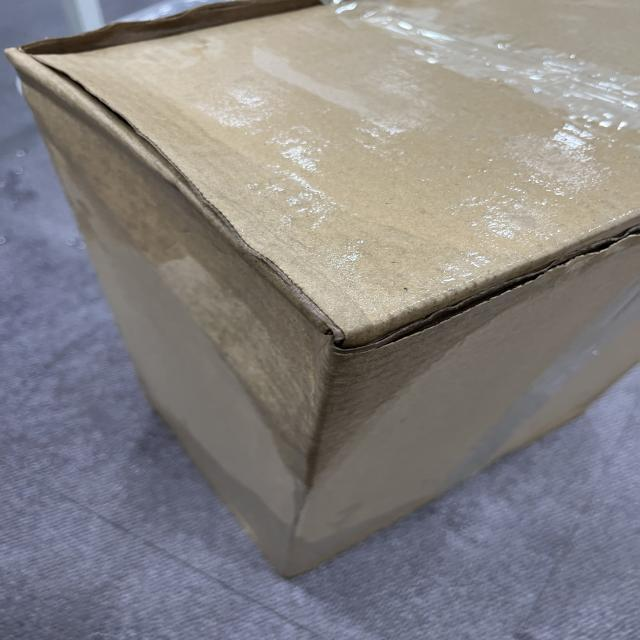wet: (16, 9, 626, 463)
